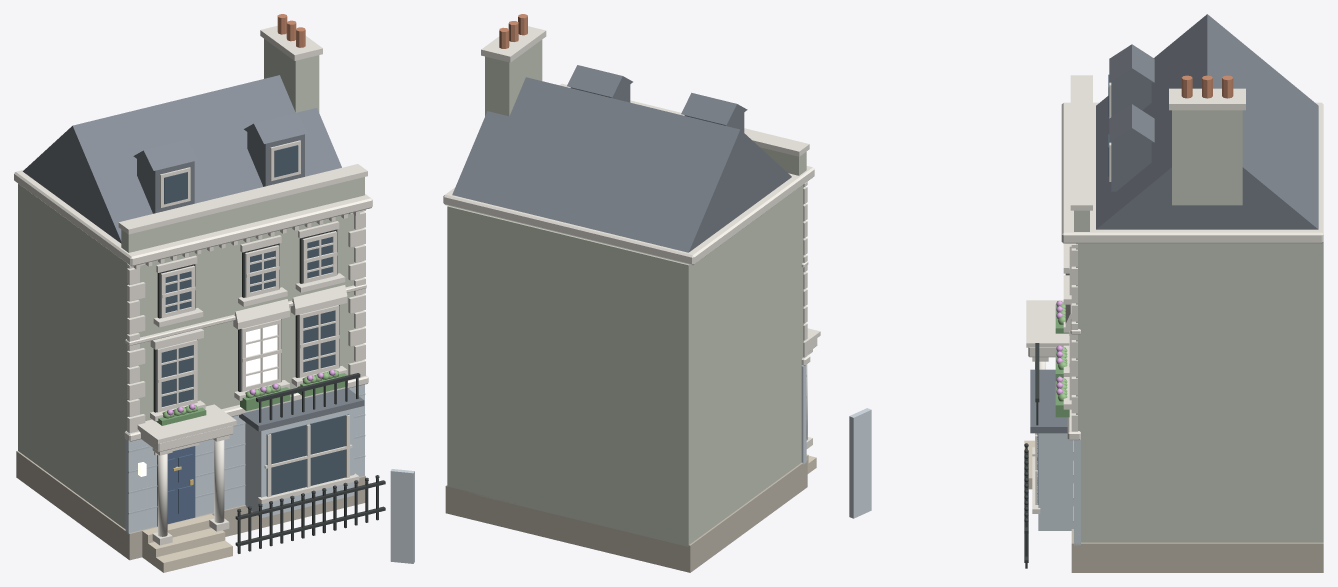
The model's file is terrace-c-3.glb.
3 views of the same model, side by side, from view 1: azimuth 30°, elevation 25°; view 2: azimuth 150°, elevation 25°; view 3: azimuth 270°, elevation 25° (orthographic). The views are drawn at different scales.
Visible parts, largest first — view 1: terrace-c-3; view 2: terrace-c-3; view 3: terrace-c-3.
Part boxes in pixels (left/top/right/bottom): terrace-c-3: left=14, top=14, right=414, bottom=572; terrace-c-3: left=443, top=14, right=820, bottom=572; terrace-c-3: left=849, top=14, right=1323, bottom=572.
Size of the model in its own units: 3.08 by 5.32 by 4.69.
